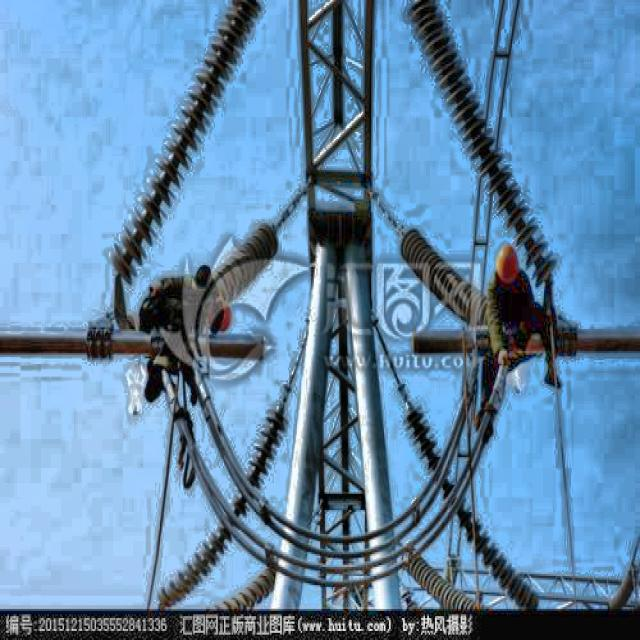helmet: (206, 292, 241, 334), (492, 242, 522, 286)
